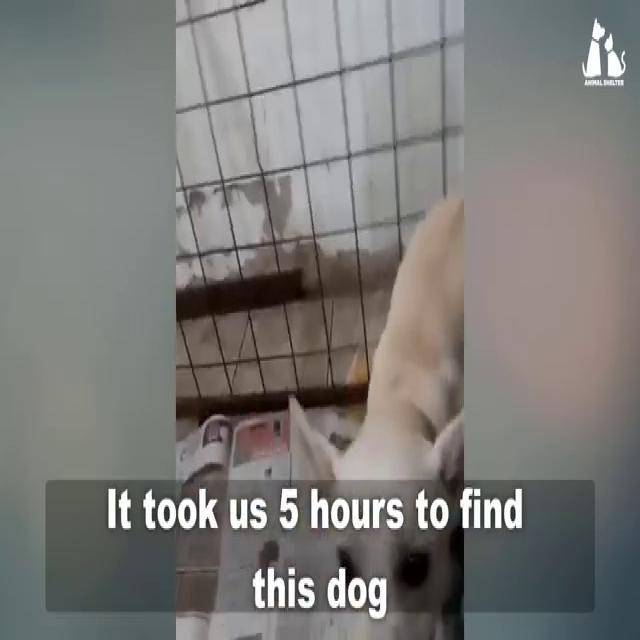normal_animals: (174, 188, 464, 633)
